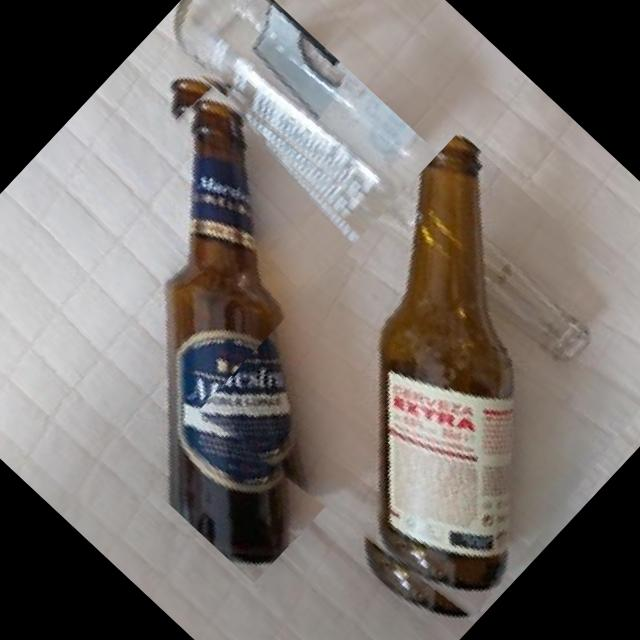Glass: (0, 62, 485, 583), (199, 130, 640, 640), (148, 0, 629, 412)
